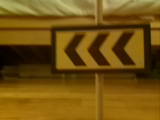left: (51, 27, 149, 71)
